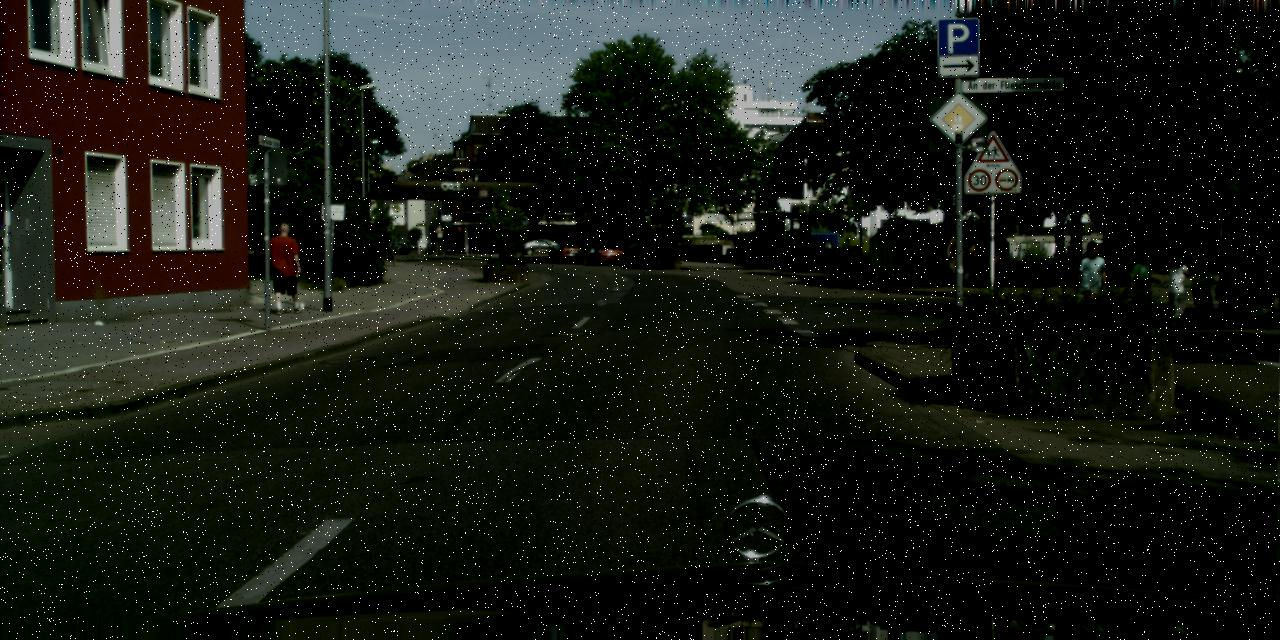ped: (1072, 241, 1112, 336), (1123, 246, 1160, 336), (1216, 234, 1252, 325), (268, 223, 304, 312), (1158, 248, 1192, 331), (1255, 220, 1279, 322), (1190, 261, 1216, 326)
